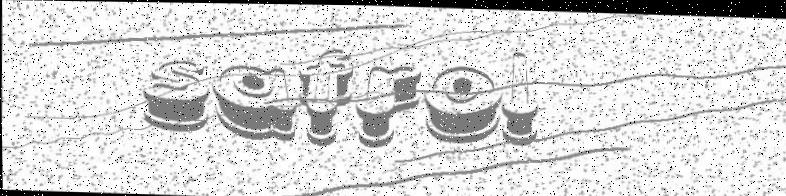a: (211, 63, 296, 139)
f: (298, 48, 353, 147)
l: (500, 49, 540, 144)
o: (423, 63, 501, 142)
r: (354, 64, 421, 147)
s: (142, 59, 210, 131)
